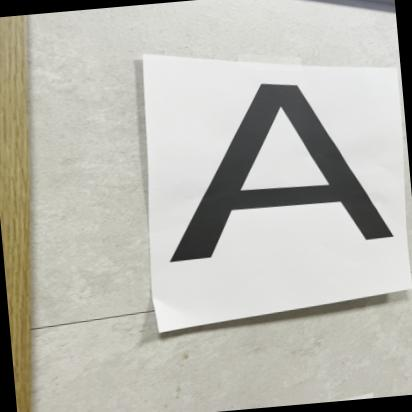seat: (149, 63, 412, 282)
